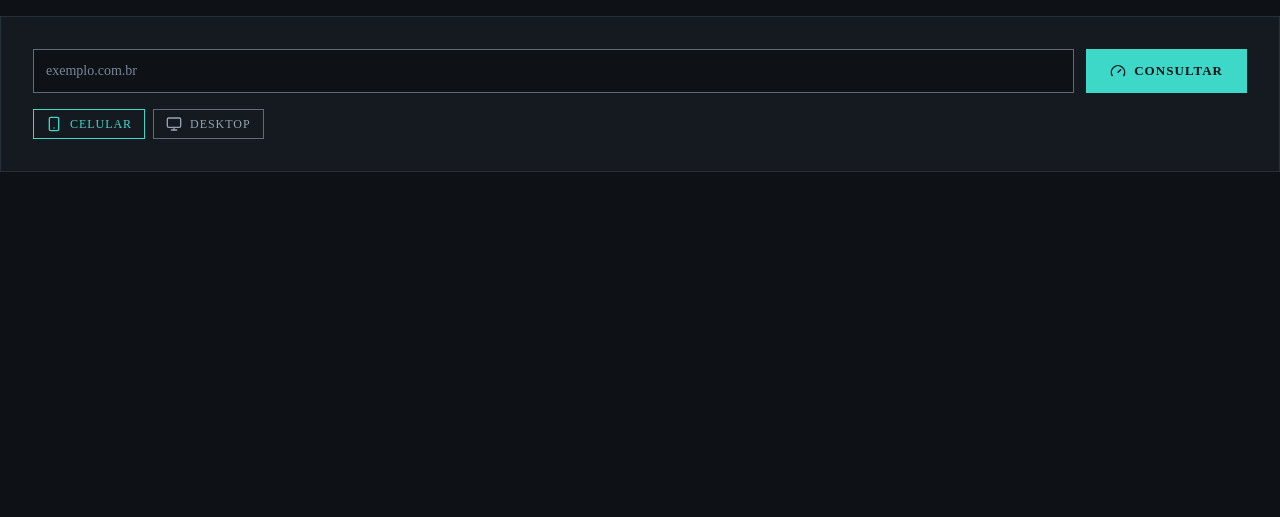
Test: CwvChecker › classifica cada métrica pela faixa e empurra só o lcp_bucket
Type "exemplo.dev" into the field named "endereço do site". click: (554, 71)
box: left=33, top=49, right=1074, bottom=93
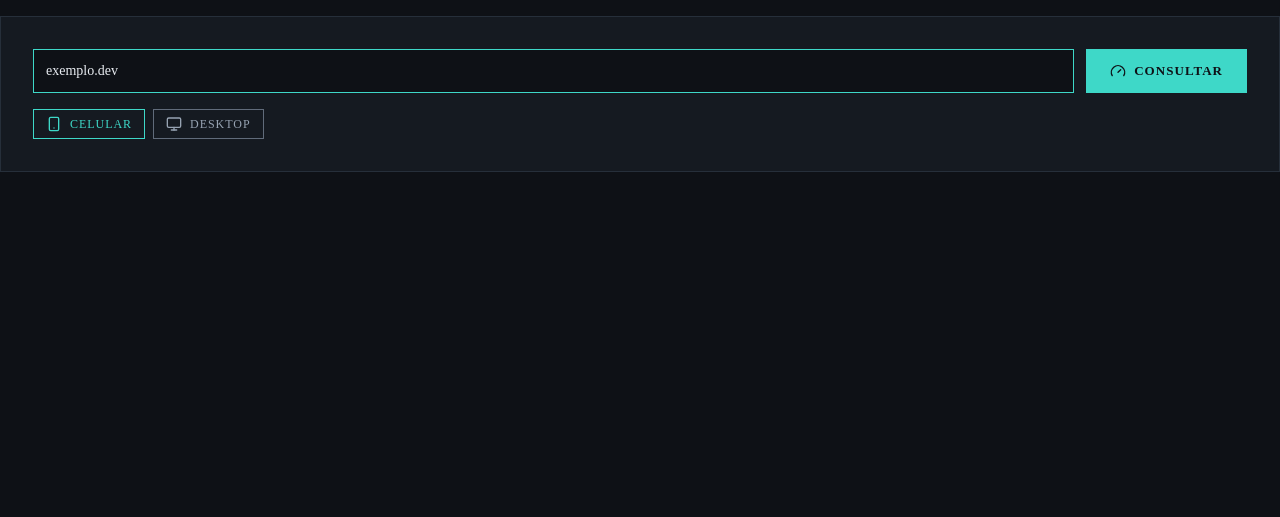
Click the button "Consultar". click: (1167, 71)
box: left=1086, top=49, right=1247, bottom=93
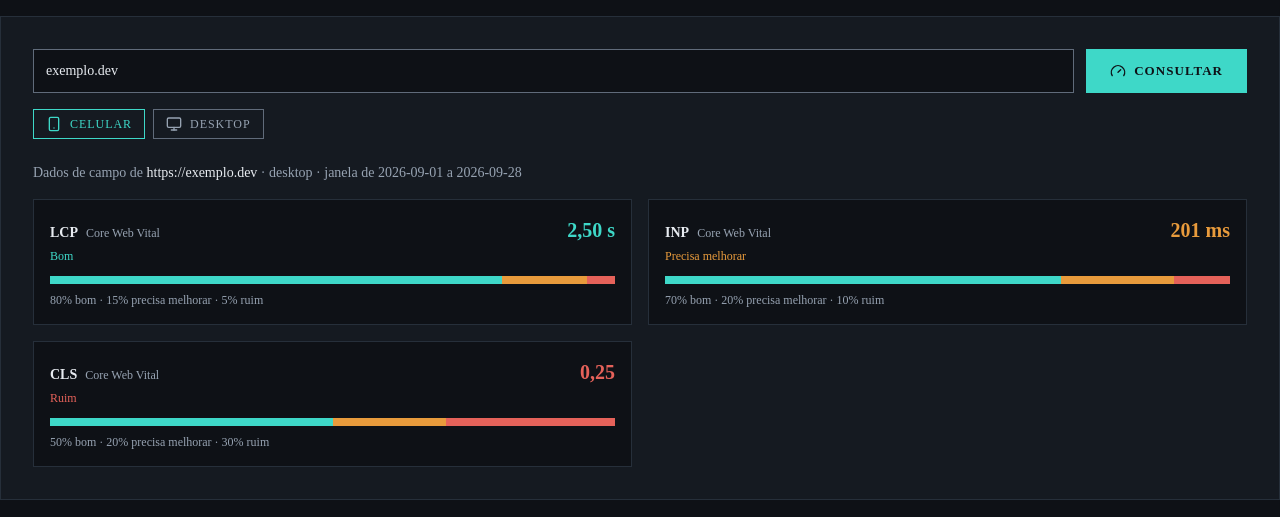
Expected: the number of list items is 3, left=33, top=199, right=632, bottom=325; left=648, top=199, right=1247, bottom=325; left=33, top=341, right=632, bottom=467
Expected: the text "2,50 s" is shown, left=567, top=216, right=615, bottom=244
Expected: the text "Bom" is shown, left=50, top=249, right=73, bottom=263
